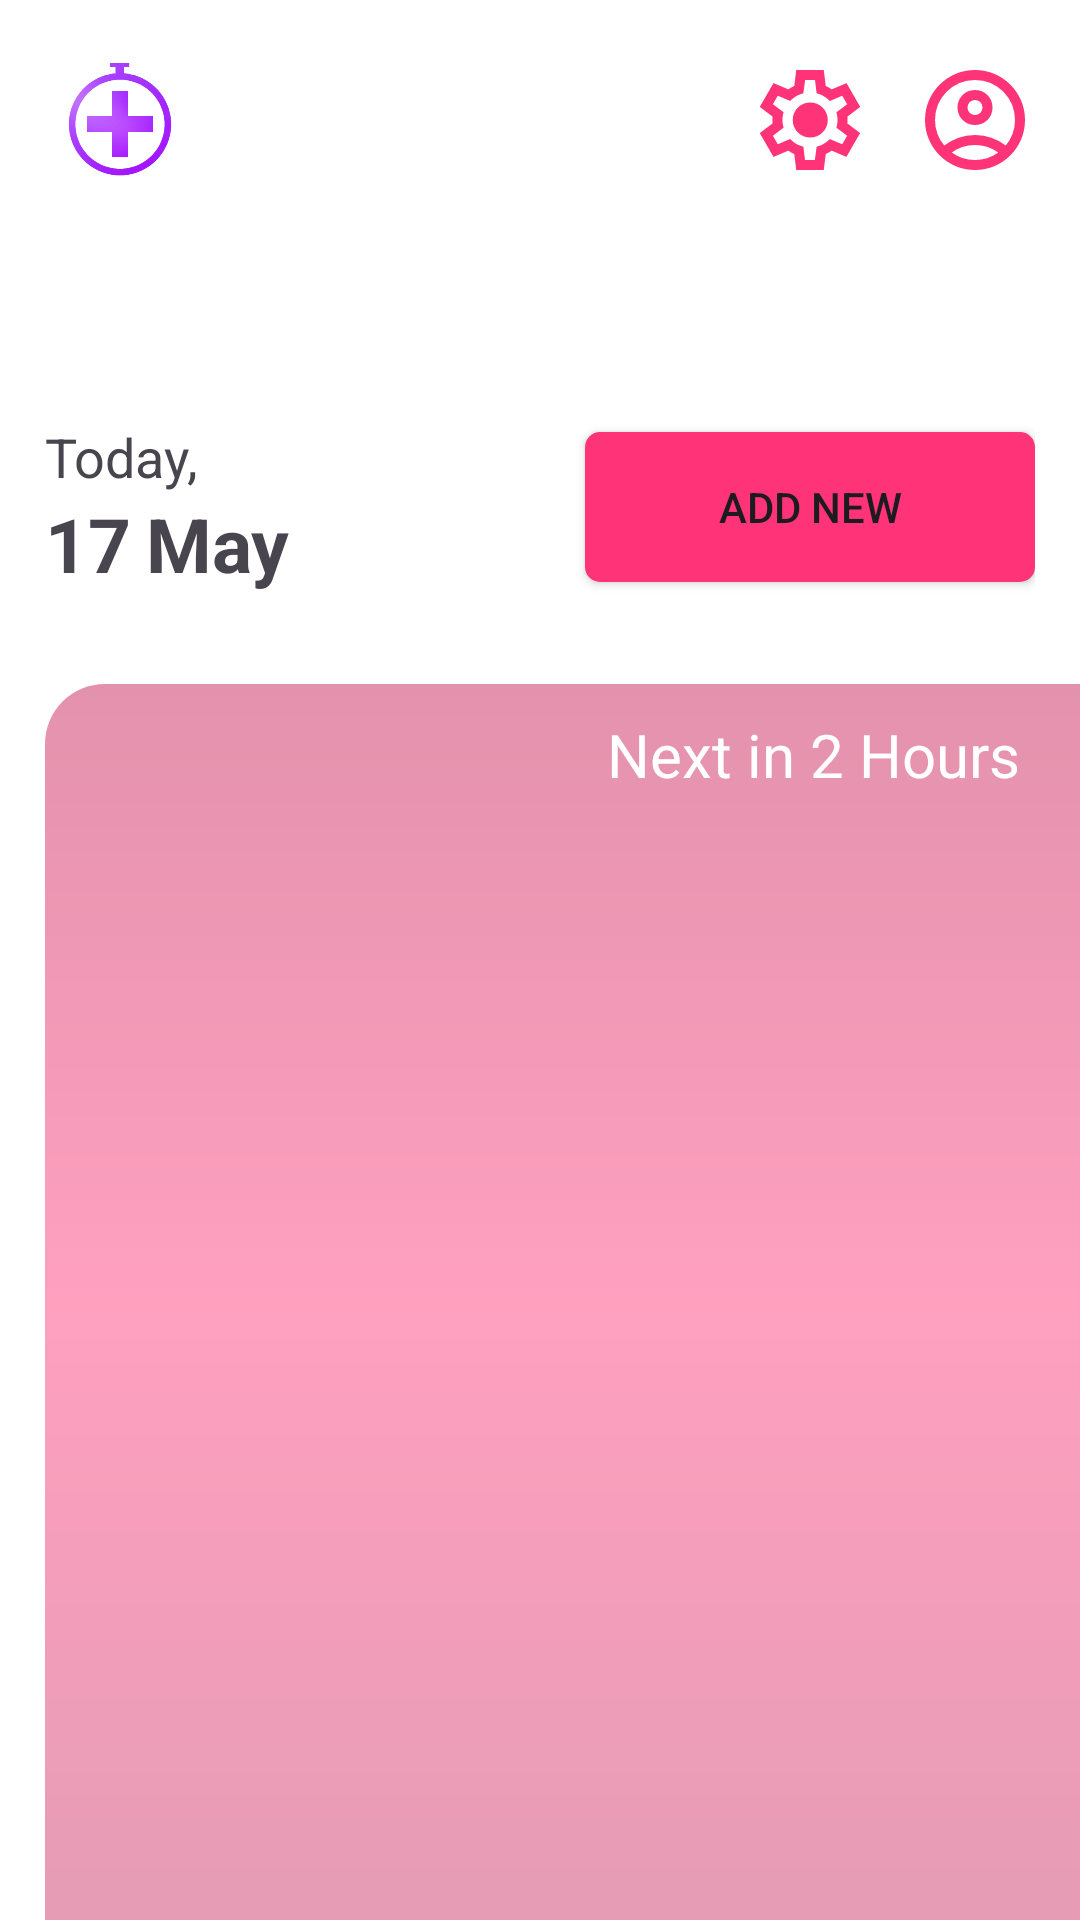

Named icons in this screenshot (1080 × 1920) and their centers, (x=x, y=y):
settings: (x=810, y=120)
